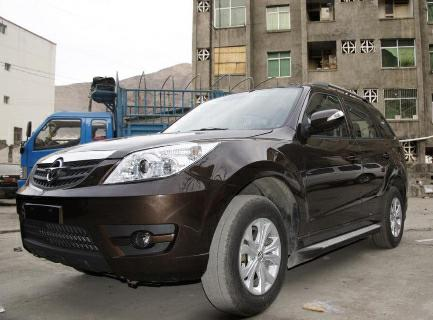悍马-H3: (15, 82, 419, 317)
